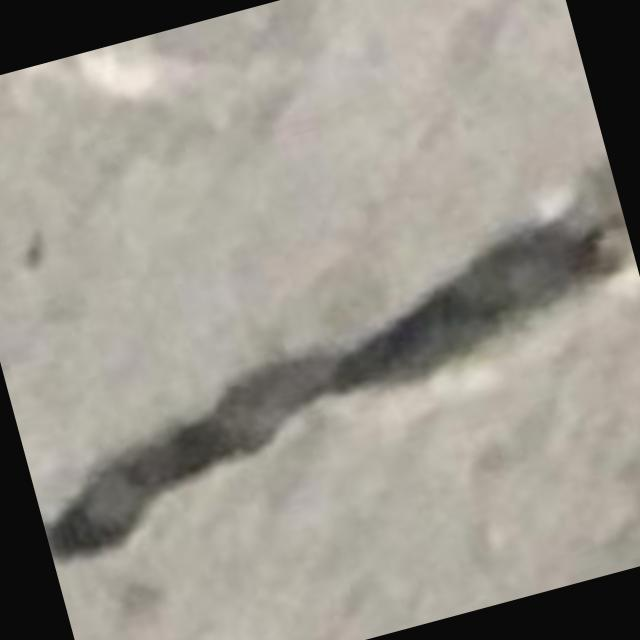crack: (46, 161, 632, 557)
